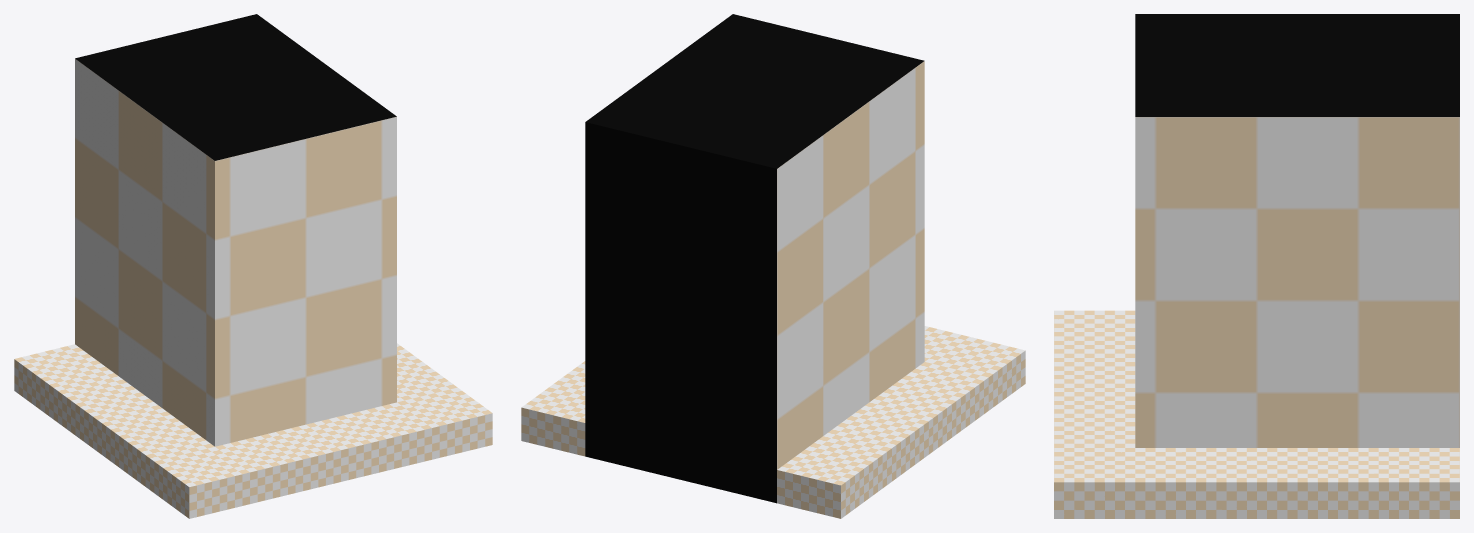
The model's file is Wall_Corner_3.FBX.
The picture shows the model from 3 angles, left to right: view 1: azimuth 30°, elevation 25°; view 2: azimuth 150°, elevation 25°; view 3: azimuth 270°, elevation 25°; orthographic projection. The views are drawn at different scales.
Visible parts, largest first — view 1: corner3_wall, Box009, Box007, Box008; view 2: corner3_wall, Box007, Box009, Box008; view 3: corner3_wall, Box008, Box009.
Part boxes in pixels (left/top/right/bottom): corner3_wall: left=75, top=14, right=396, bottom=446; Box009: left=154, top=387, right=492, bottom=518; Box007: left=14, top=344, right=214, bottom=492; Box008: left=397, top=343, right=457, bottom=402; corner3_wall: left=585, top=14, right=924, bottom=503; Box007: left=777, top=362, right=988, bottom=518; Box009: left=924, top=326, right=1025, bottom=410; Box008: left=521, top=361, right=585, bottom=456; corner3_wall: left=1135, top=14, right=1459, bottom=447; Box008: left=1135, top=448, right=1459, bottom=518; Box009: left=1054, top=310, right=1135, bottom=518.
Size of the model in its own units: 100 by 100 by 100.
Materials: 2 (2 with a texture image).
